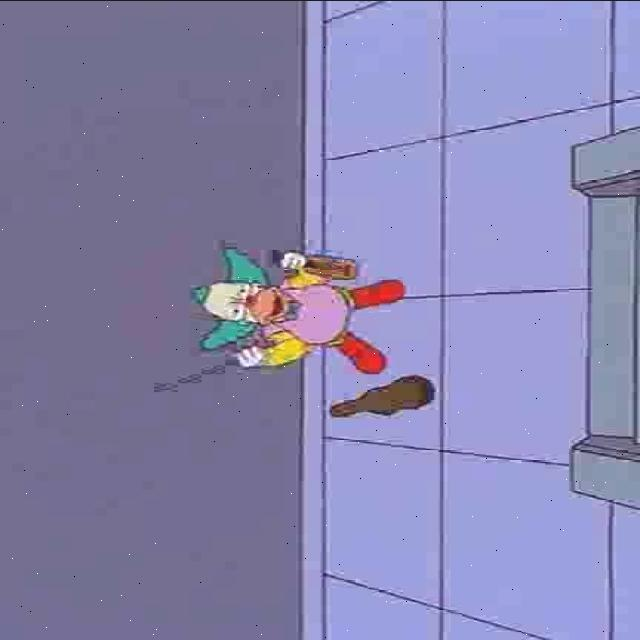Krusty the Clown: (189, 242, 291, 348)
